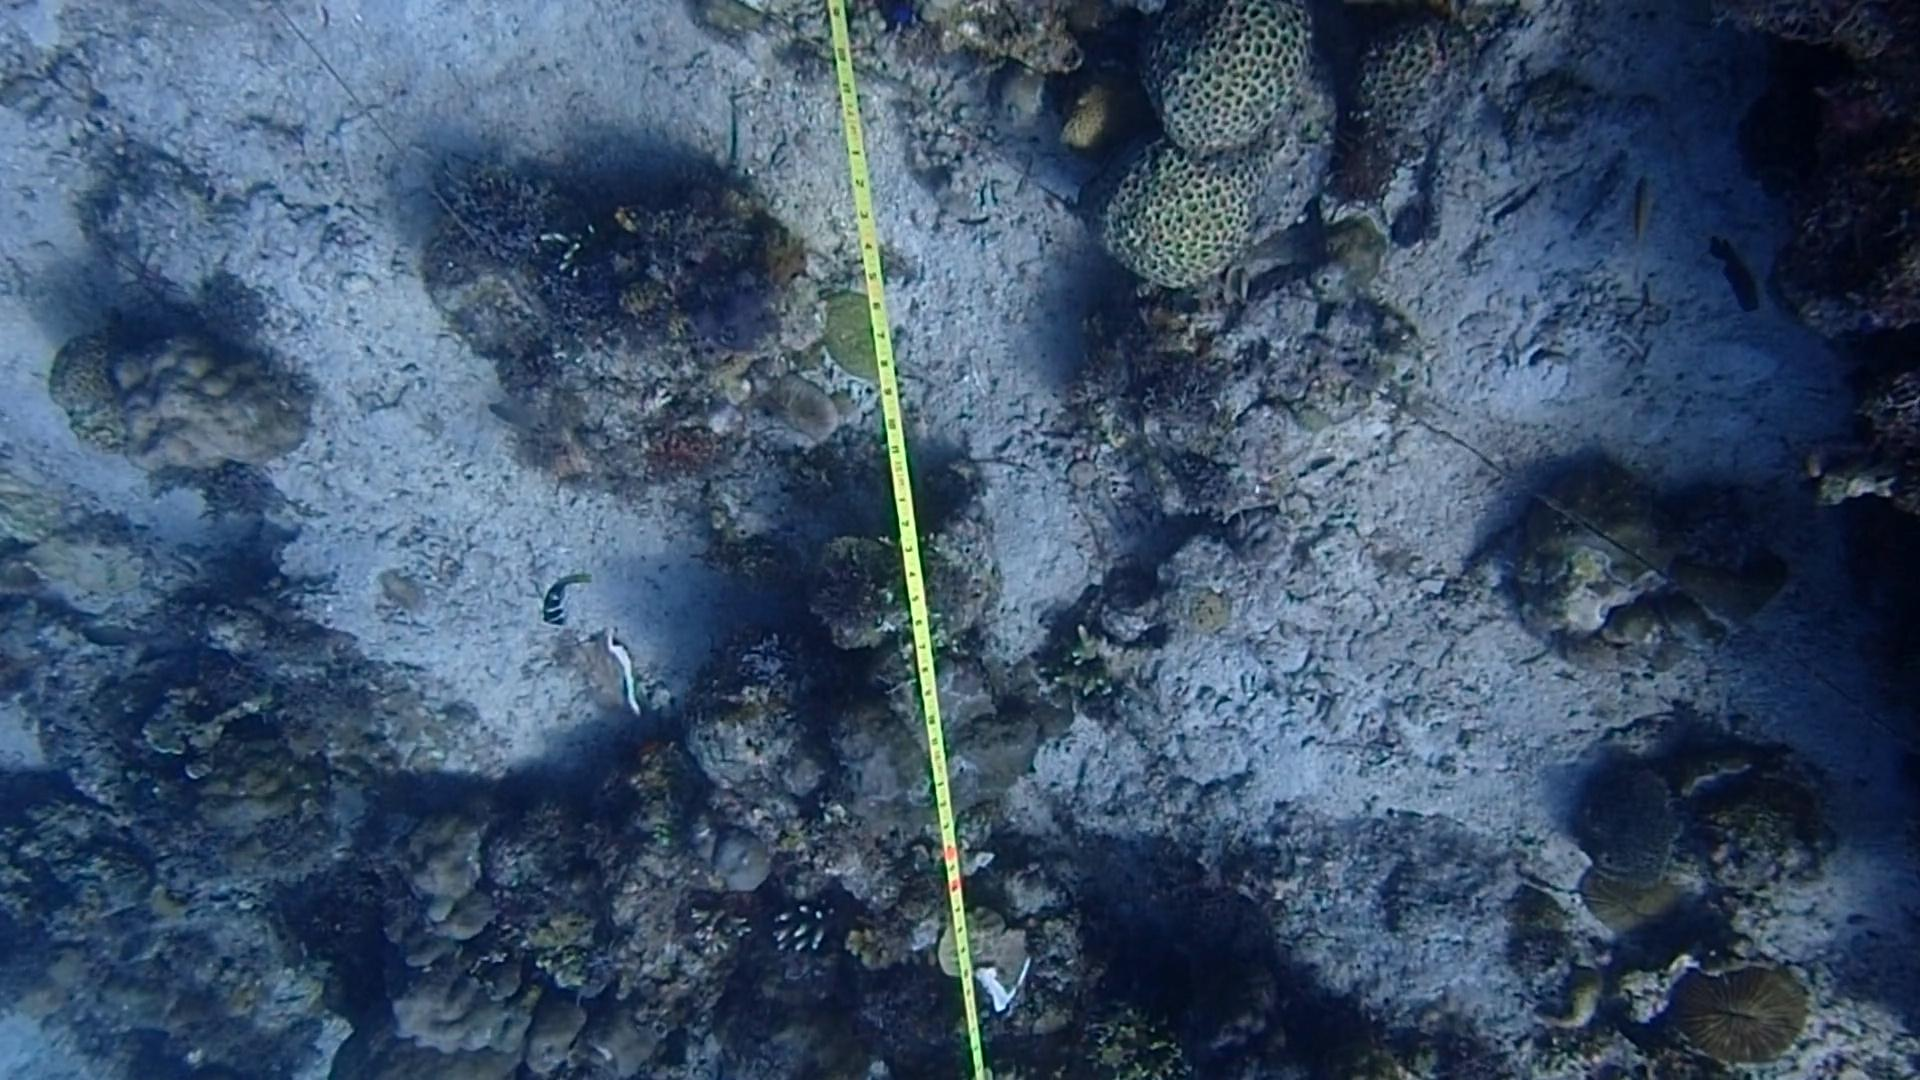Striped Fish: (539, 558, 600, 632)
